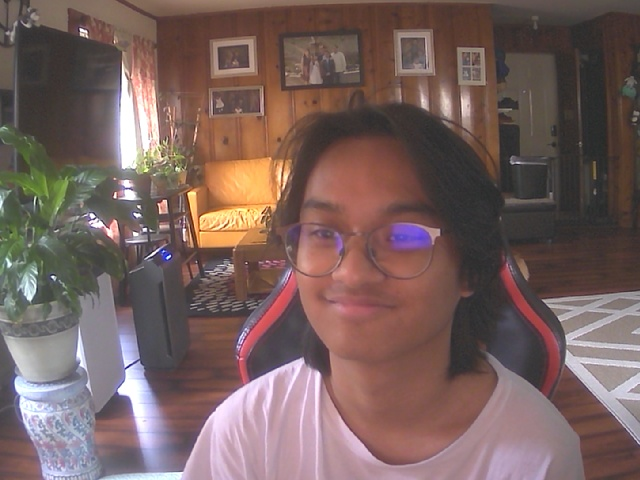happy: (275, 117, 489, 364)
